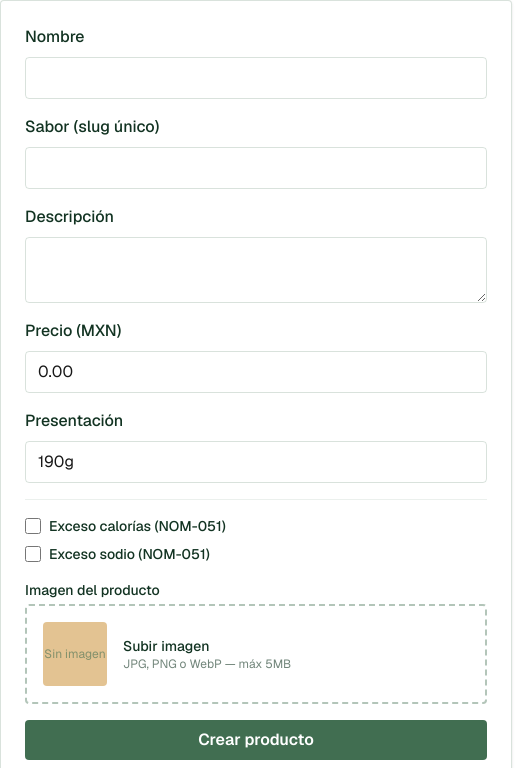
Test: ProductForm › no envía la request si faltan campos requeridos
Click the button "Crear producto". click: [256, 740]
box: [25,720,487,760]
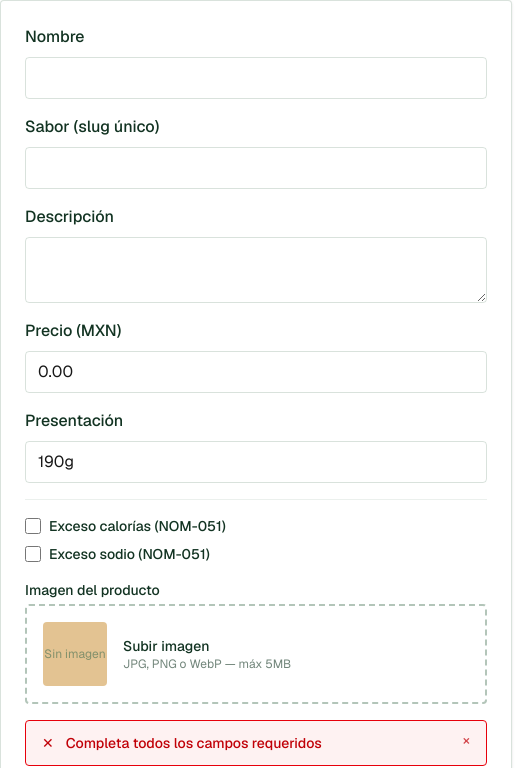
Expected: the message shows "Completa todos los campos", [66,734,322,752]
